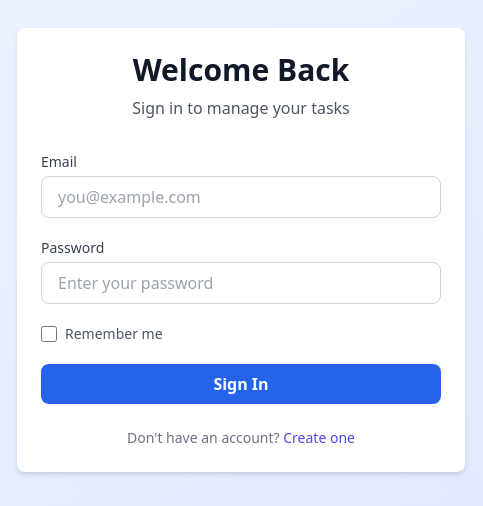
Test: LoginView › should validate email format
This screenshot has width=483, height=506.
Step 1. Type "not-an-email" into the field with id "email" → [241, 197], box [41,176,441,218]
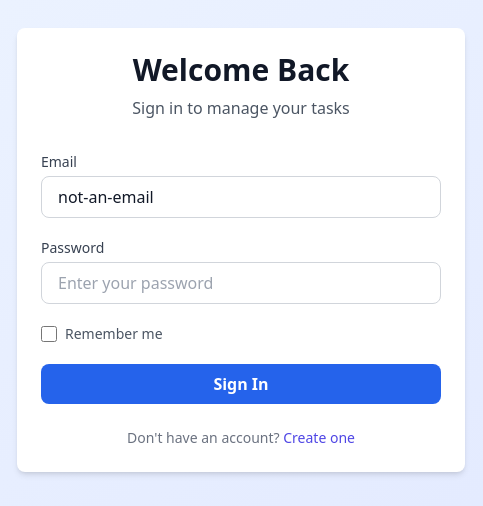
Step 2. Leave the field with id "email", box [41,176,441,218]
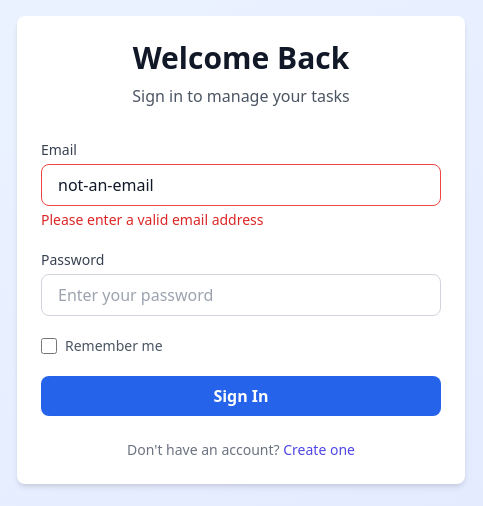
Result: the text "Please enter a valid email address" is shown at [41,210,264,229]
